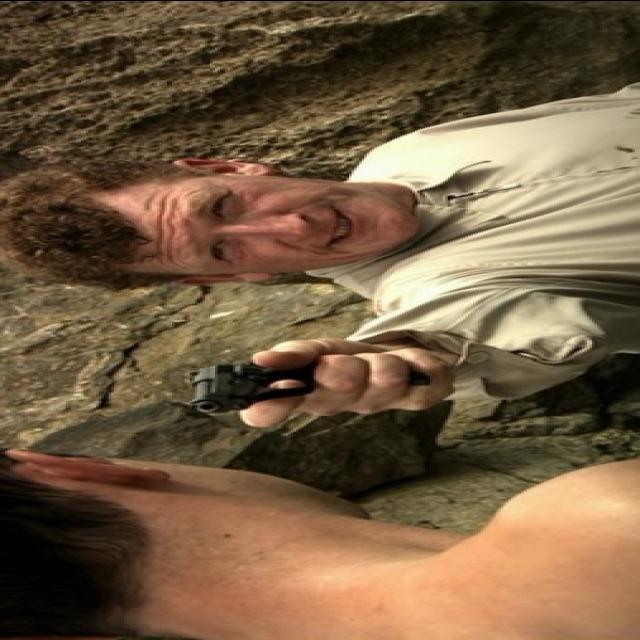weapons: (148, 331, 448, 437)
